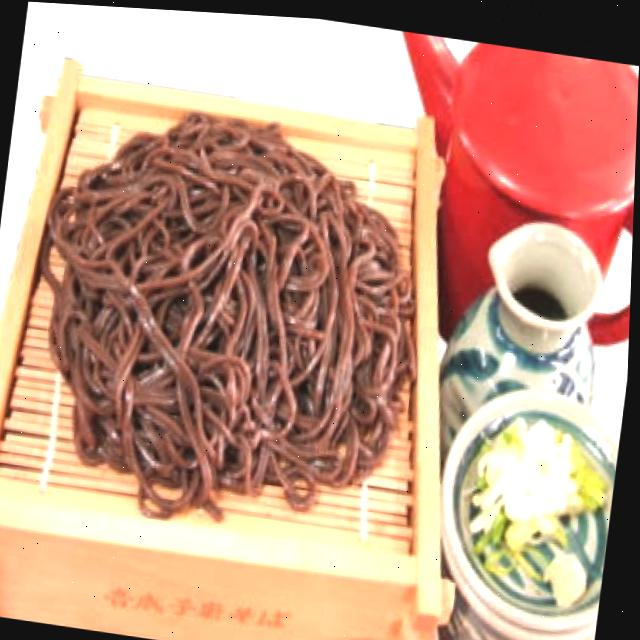面条主食: (0, 38, 517, 640)
